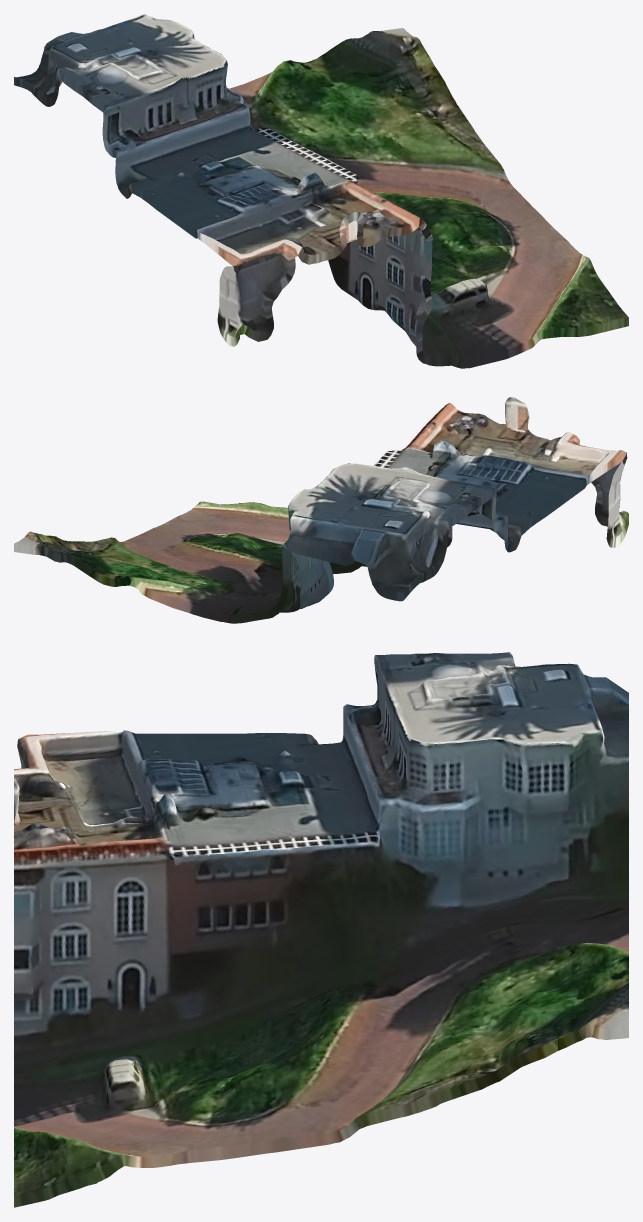
File: z20-167717-405196-h0-yup-uvflip-v3-world.glb
The picture shows the model from 3 angles, top to bottom: view 1: azimuth 30°, elevation 25°; view 2: azimuth 150°, elevation 25°; view 3: azimuth 270°, elevation 25°; orthographic projection. The views are drawn at different scales.
Bounding box in the file's own units: 30.16 × 16.72 × 30.32.
Materials: 1 (1 with a texture image).
